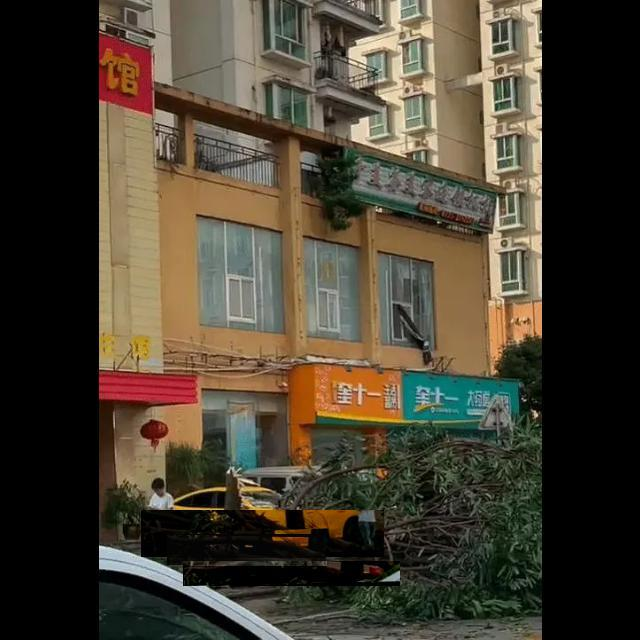fallen_tree: (141, 510, 385, 558), (183, 561, 401, 587), (167, 534, 327, 566)
